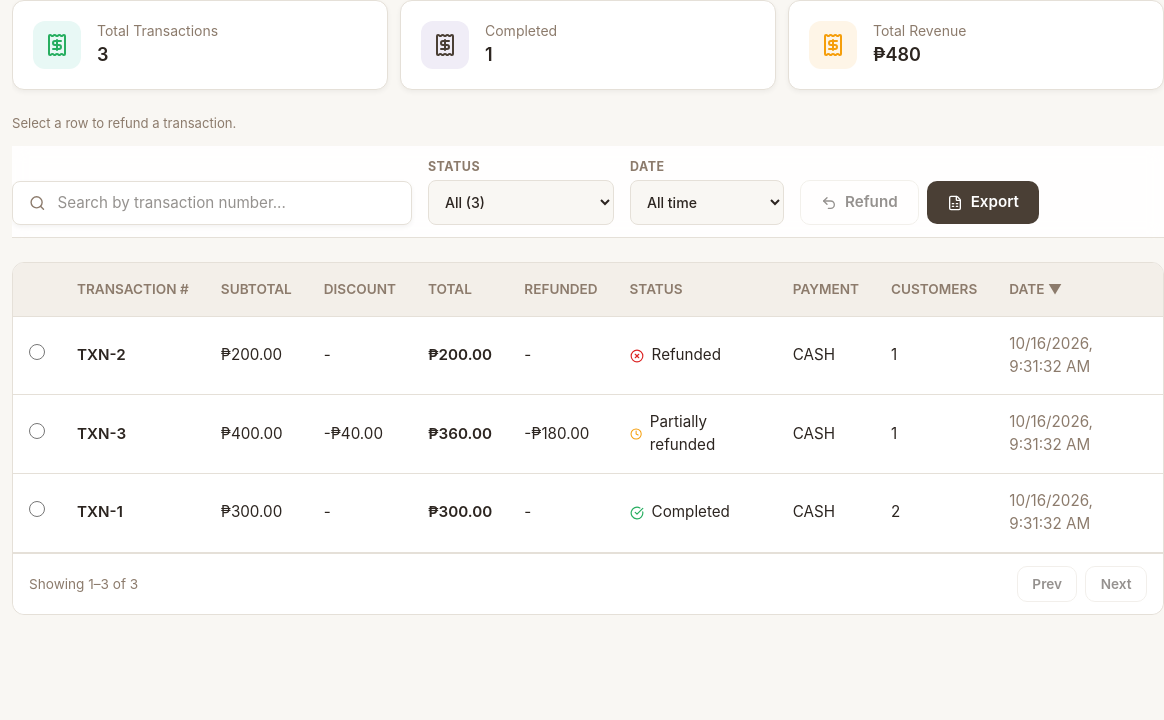
Test case: OrderHistoryPage refunds › should toggle selection when the selected row is clicked again
Expected: the row with test id "order-row-t1" is shown, [13,474,1163,552]
What coordinates should you click on to do the following:
click the radio button with test id "select-order-t1"
I would click on:
 (37, 509)
Its box is [29,501,45,517].
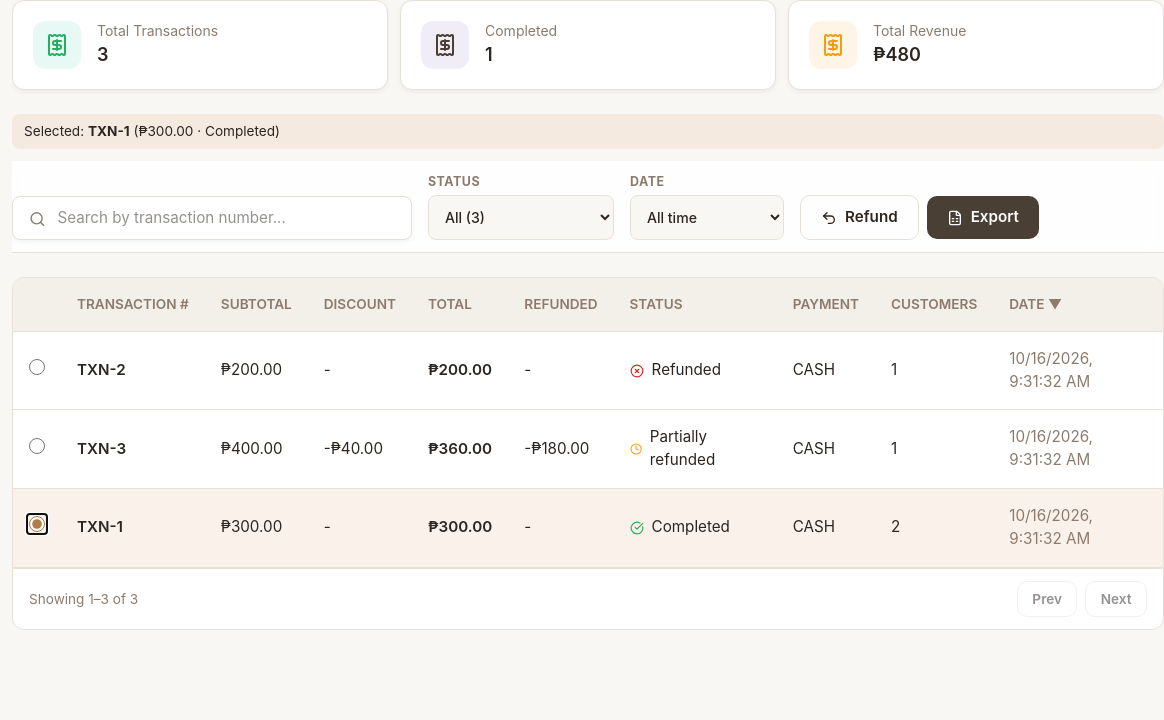
Now the button with test id "toolbar-refund-btn" is enabled, box [800,195,919,240]
Now the element with test id "selected-chip" shows "TXN-1", box [88,123,130,139]
What coordinates should you click on to do the following:
click the row with test id "order-row-t1"
I would click on:
 (588, 528)
Its box is [13,489,1163,567].
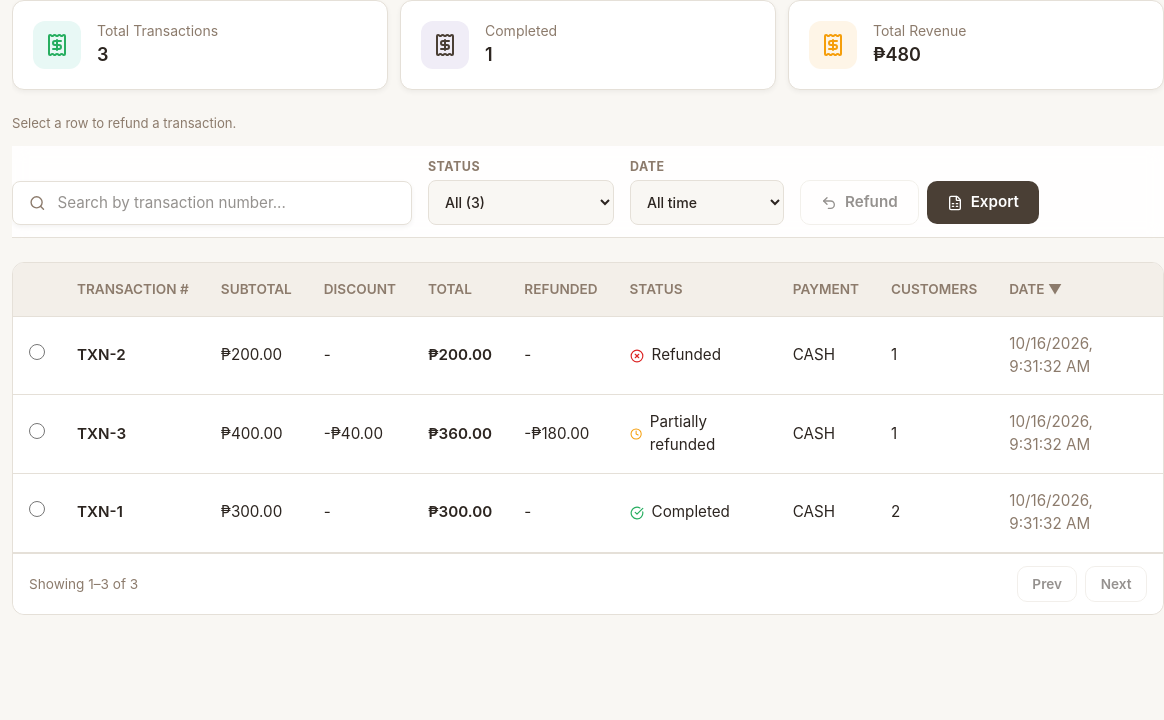
Now the button with test id "toolbar-refund-btn" is disabled, box [800,180,919,225]
Now the element with test id "selected-chip" is gone
